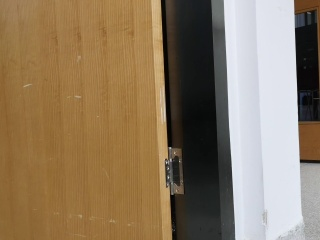room: (4, 1, 237, 240)
